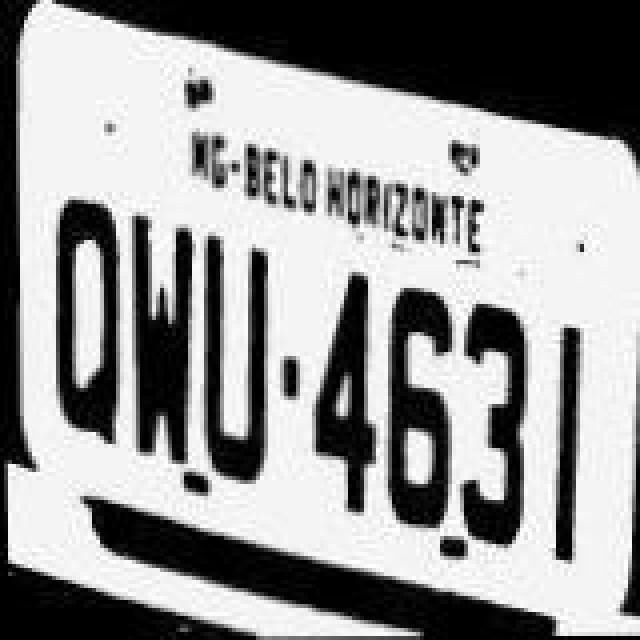1: (540, 302, 600, 570)
3: (452, 278, 532, 558)
4: (302, 262, 378, 542)
6: (370, 272, 454, 540)
Q: (42, 194, 134, 462)
U: (194, 220, 278, 496)
W: (116, 208, 196, 480)
